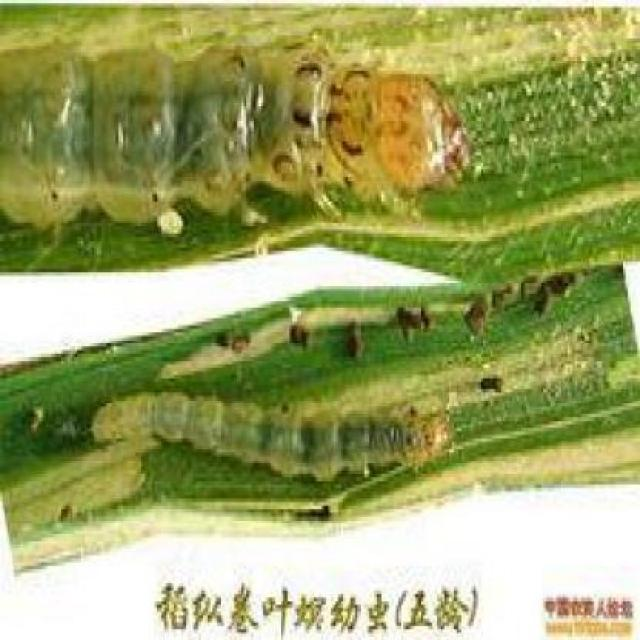leaf-folder: (8, 24, 494, 250), (77, 329, 466, 551)
